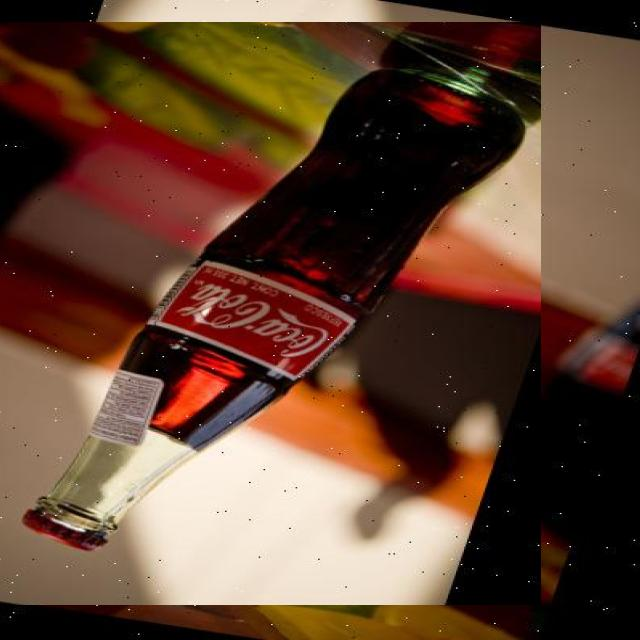coca-cola: (0, 22, 541, 605)
